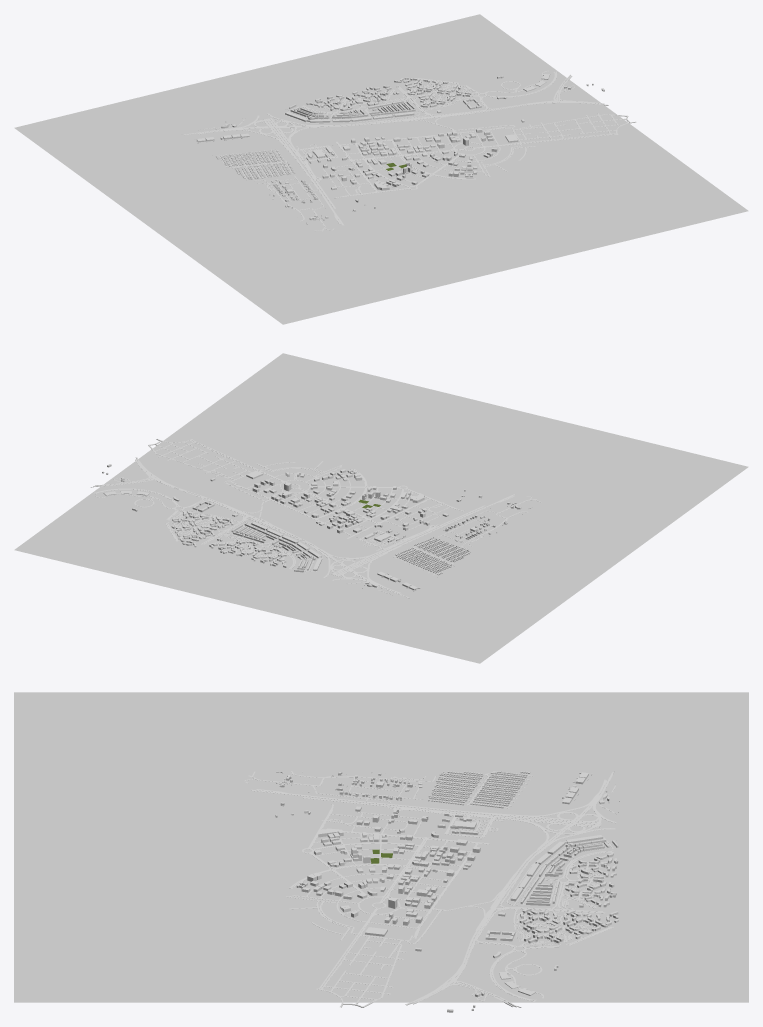
File: Tavora_mini_map.glb
The picture shows the model from 3 angles, top to bottom: view 1: azimuth 30°, elevation 25°; view 2: azimuth 150°, elevation 25°; view 3: azimuth 270°, elevation 25°; orthographic projection. The views are drawn at different scales.
Parts seen in each view (by area): view 1: ground, road, Build; view 2: ground, road, Build; view 3: ground, Build, road.
Part boxes in pixels (box(x1,y1,x2,y2)): ground: box(14, 14, 748, 324); road: box(184, 70, 636, 231); Build: box(196, 74, 604, 224); ground: box(14, 353, 748, 663); road: box(90, 439, 541, 597); Build: box(102, 464, 532, 591); ground: box(14, 692, 748, 1002); Build: box(275, 771, 619, 1012); road: box(245, 771, 616, 1007).
Size of the model in its own units: 5536 by 67.27 by 5361.
4 materials, 1 textured.
